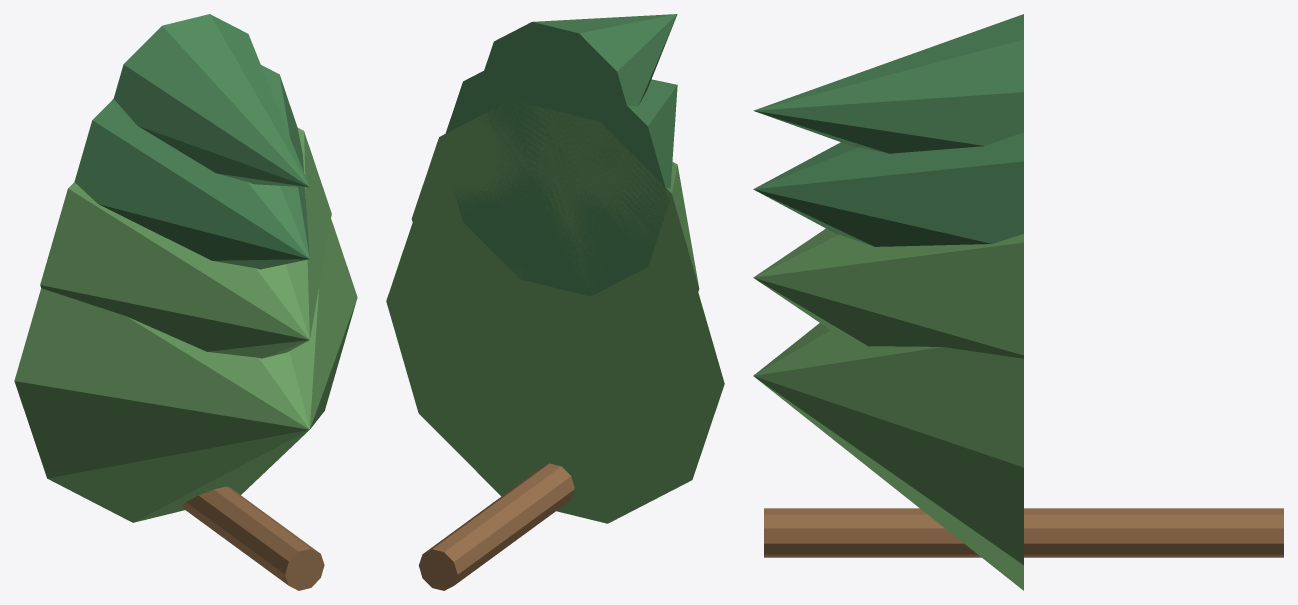
Rendered from tree_01.glb.
The picture shows the model from 3 angles, left to right: view 1: azimuth 30°, elevation 25°; view 2: azimuth 150°, elevation 25°; view 3: azimuth 270°, elevation 25°; orthographic projection. The views are drawn at different scales.
Parts seen in each view (by area): view 1: world; view 2: world; view 3: world.
Boxes of the visible parts, x1,y1,x2,y2 form: world: (14,14,357,590); world: (386,14,724,590); world: (753,14,1283,590).
Bounding box in the file's own units: 4 × 5.46 × 4.9.
